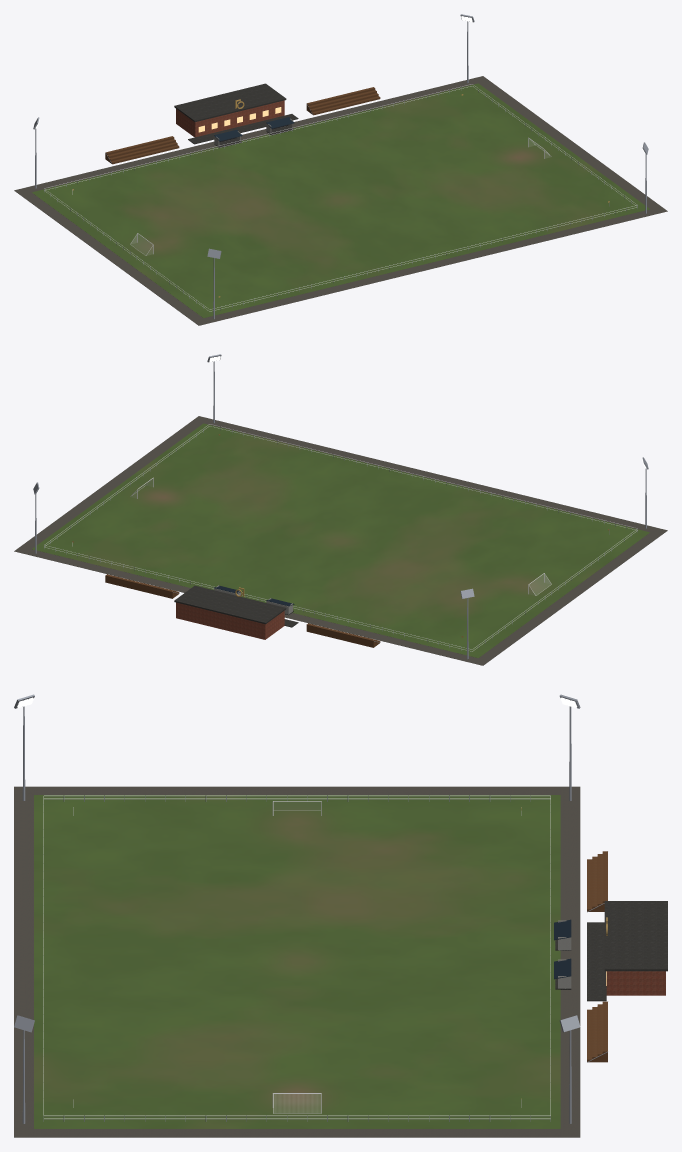
File: terrain_L1.glb
3 renders of one model, top to bottom at view 1: azimuth 30°, elevation 25°; view 2: azimuth 150°, elevation 25°; view 3: azimuth 270°, elevation 25°, orthographic. The views are drawn at different scales.
Visible parts, largest first — view 1: pitch_L1_L1, gravel_L1, concrete_dark_L1, white_L1, wood_L1, brick_L1, steel_L1; view 2: pitch_L1_L1, gravel_L1, white_L1, concrete_dark_L1, brick_L1, wood_L1, steel_L1; view 3: pitch_L1_L1, gravel_L1, concrete_dark_L1, white_L1, wood_L1, steel_L1, brick_L1, net_L1.
Part boxes in pixels (box(x1,y1,x2,y2)): pitch_L1_L1: box(32, 83, 649, 318); gravel_L1: box(14, 76, 667, 325); concrete_dark_L1: box(174, 83, 298, 147); white_L1: box(44, 84, 637, 311); wood_L1: box(105, 87, 380, 164); brick_L1: box(176, 100, 284, 137); steel_L1: box(33, 14, 648, 319); pitch_L1_L1: box(32, 423, 649, 658); gravel_L1: box(14, 416, 667, 665); white_L1: box(44, 424, 637, 651); concrete_dark_L1: box(174, 585, 298, 627); brick_L1: box(176, 602, 284, 639); wood_L1: box(105, 574, 380, 647); steel_L1: box(33, 354, 648, 659); pitch_L1_L1: box(34, 795, 560, 1128); gravel_L1: box(14, 786, 580, 1137); concrete_dark_L1: box(555, 901, 667, 1001); white_L1: box(43, 795, 550, 1119); wood_L1: box(587, 851, 607, 1062); steel_L1: box(14, 694, 607, 1123); brick_L1: box(606, 971, 665, 995); net_L1: box(274, 802, 320, 1112).
Size of the model in its own units: 126 by 17.61 by 99.32.
14 materials, 8 textured.
